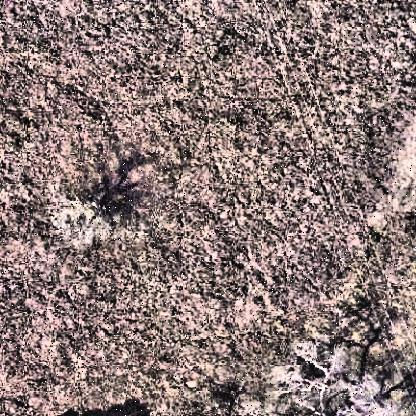tree-top: (269, 331, 389, 416), (54, 170, 129, 246)
